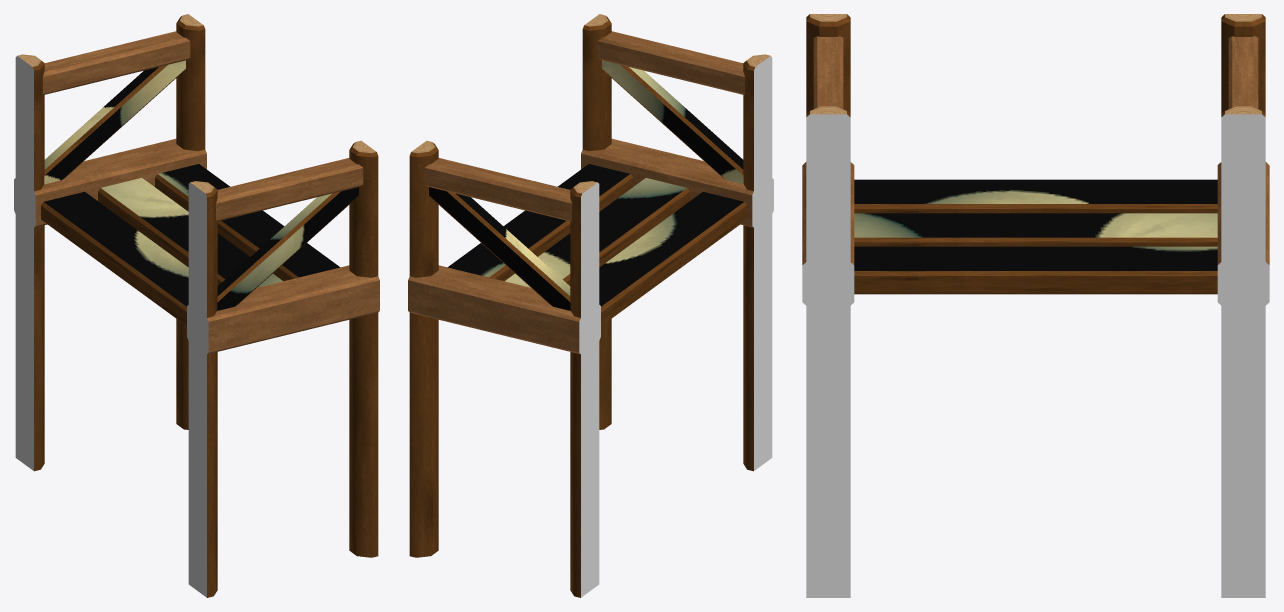
The model's file is Prop_Bridge_Center_1x2.fbx.
3 renders of one model, left to right at view 1: azimuth 30°, elevation 25°; view 2: azimuth 150°, elevation 25°; view 3: azimuth 270°, elevation 25°, orthographic. The views are drawn at different scales.
Parts seen in each view (by area): view 1: Prop_Bridge_Center_1x2; view 2: Prop_Bridge_Center_1x2; view 3: Prop_Bridge_Center_1x2.
Boxes of the visible parts, box(x1,y1,x2,y2) form: Prop_Bridge_Center_1x2: box(14, 14, 379, 597); Prop_Bridge_Center_1x2: box(408, 14, 773, 597); Prop_Bridge_Center_1x2: box(802, 14, 1269, 597).
Size of the model in its own units: 100 by 225 by 197.
